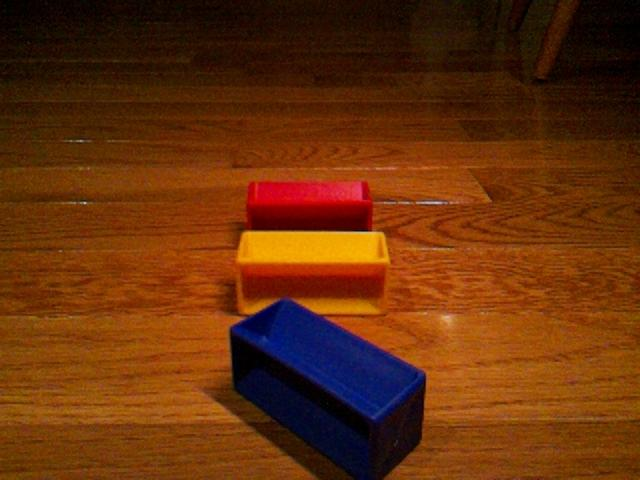blue: (228, 296, 428, 480)
red: (245, 180, 374, 231)
yellow: (235, 229, 391, 317)
